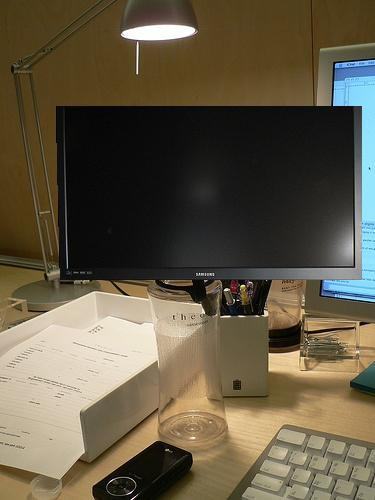tampered: (57, 107, 362, 280)
